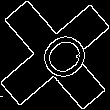O_SW: (21, 22, 89, 88)
